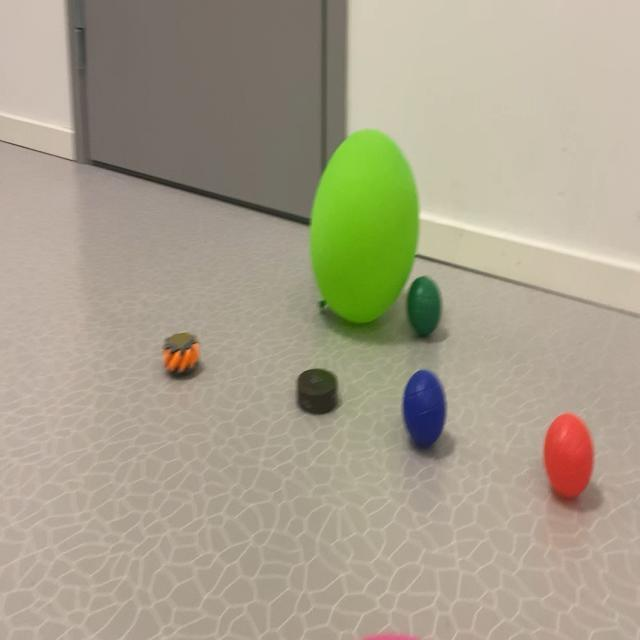blue ball: (400, 372, 448, 450)
green ball: (410, 280, 444, 338)
red ball: (542, 409, 597, 512)
